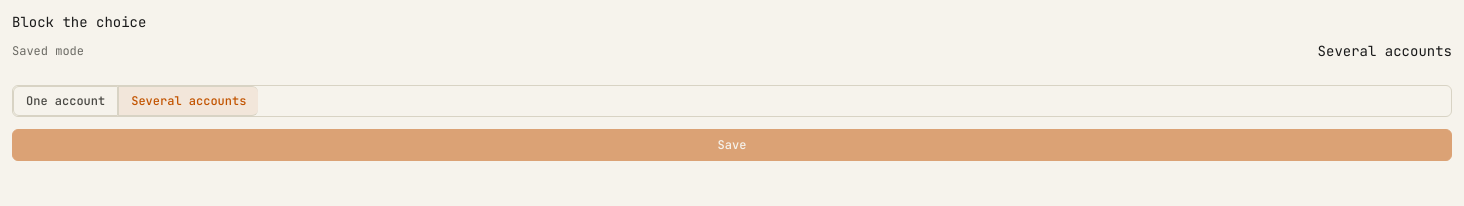
Test: AccountModeChoice › disables saving while the choice equals the stored one
The image size is (1464, 206).
Expected: the button "Save" is disabled, [12,129,1452,161]
What coordinates should you click on to do the following:
click the button "One account"
I would click on:
 (66, 101)
Its box is [13,86,118,116].
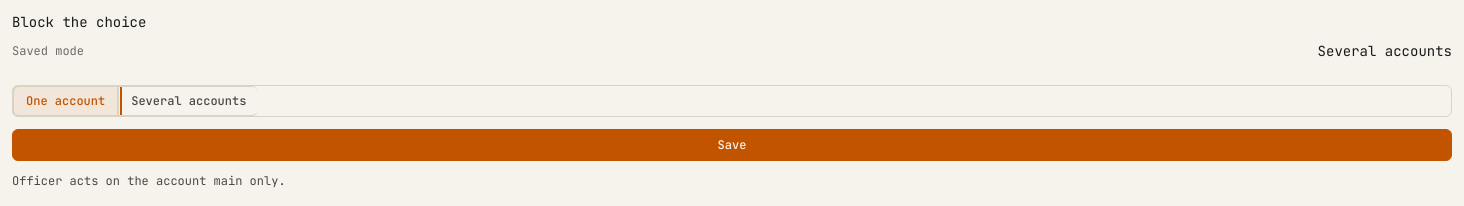
Result: the text "Officer acts on the account main only." is shown at [12,173,286,189]
Result: the button "Save" is enabled at [12,129,1452,161]
What coordinates should you click on to do the following:
click the button "Several accounts"
I would click on:
 (188, 101)
Its box is [118,86,258,116].
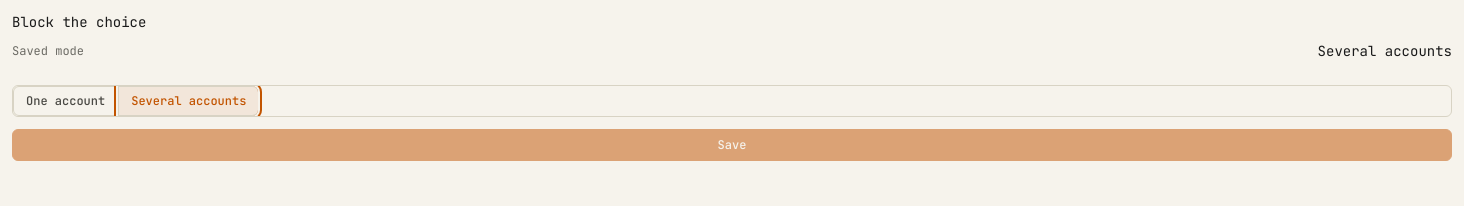
Result: the button "Save" is disabled at [12,129,1452,161]
